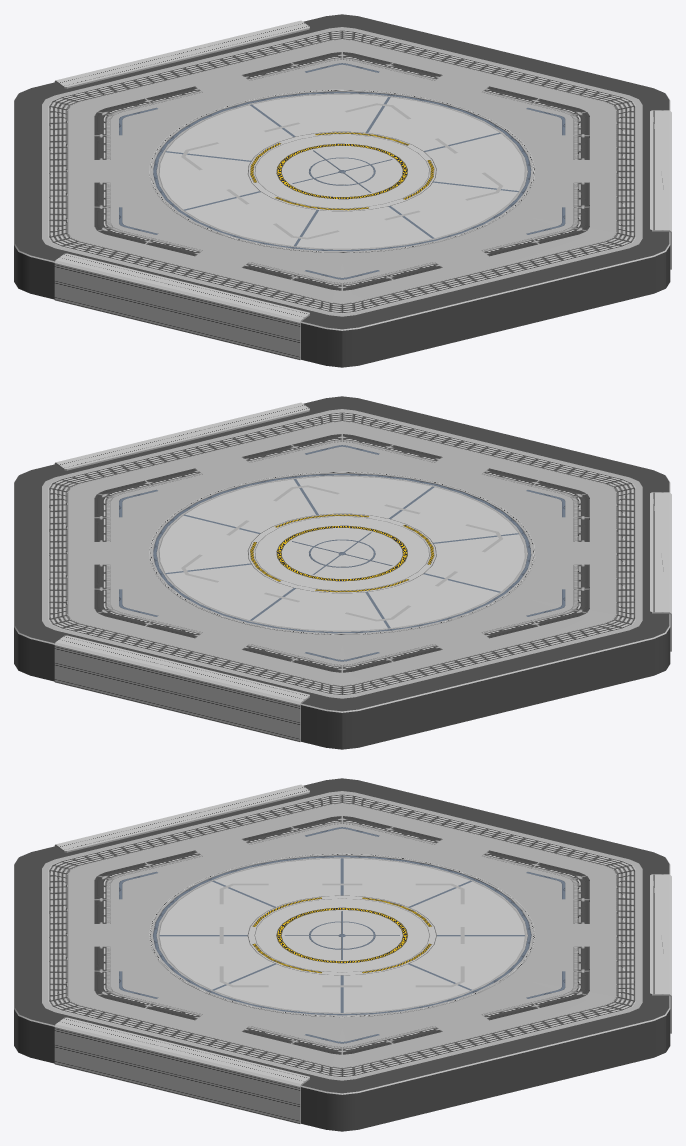
File: EvacuationArea.fbx
3 renders of one model, top to bottom at view 1: azimuth 30°, elevation 25°; view 2: azimuth 150°, elevation 25°; view 3: azimuth 270°, elevation 25°, orthographic.
Parts seen in each view (by area): view 1: group4; view 2: group4; view 3: group4.
Boxes of the visible parts, left/top/right/bottom form: group4: left=14, top=14, right=671, bottom=367; group4: left=14, top=396, right=671, bottom=749; group4: left=14, top=778, right=671, bottom=1131.
Bounding box in the file's own units: 19.73 × 1.15 × 17.36.
